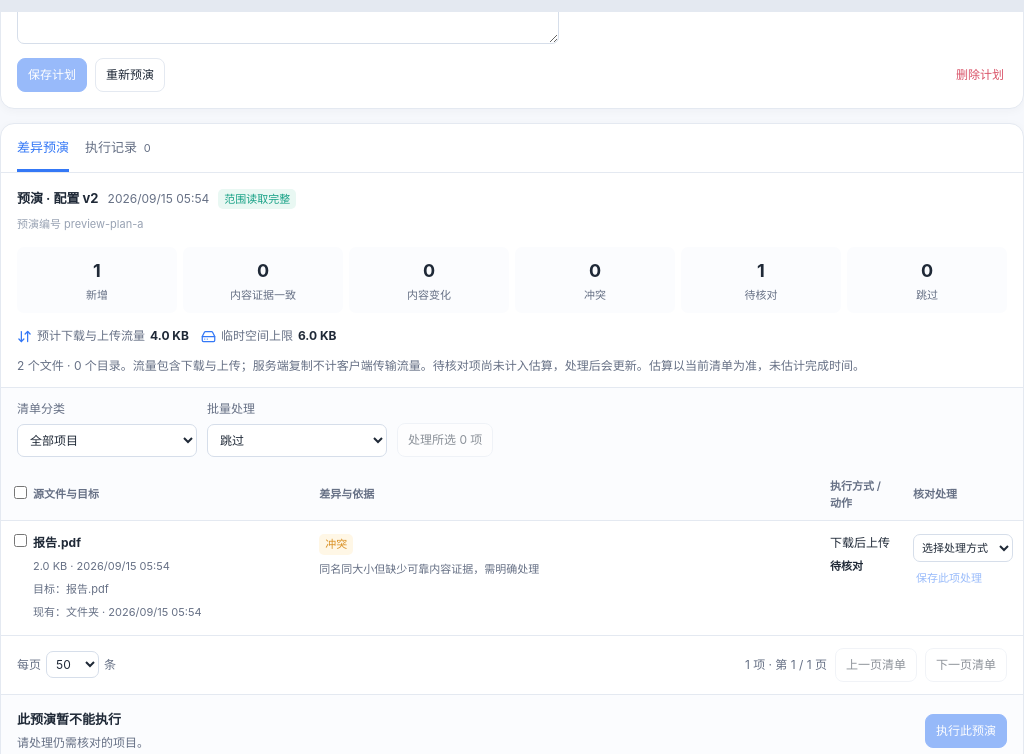
Test: keeps a rejected decision selected and blocks overwrite for a file-directory conflict
The image size is (1024, 754).
(page scrolled)
Click the checkbox named "选择本页待核对项".
click(20, 492)  # box 14,486 -> 27,499
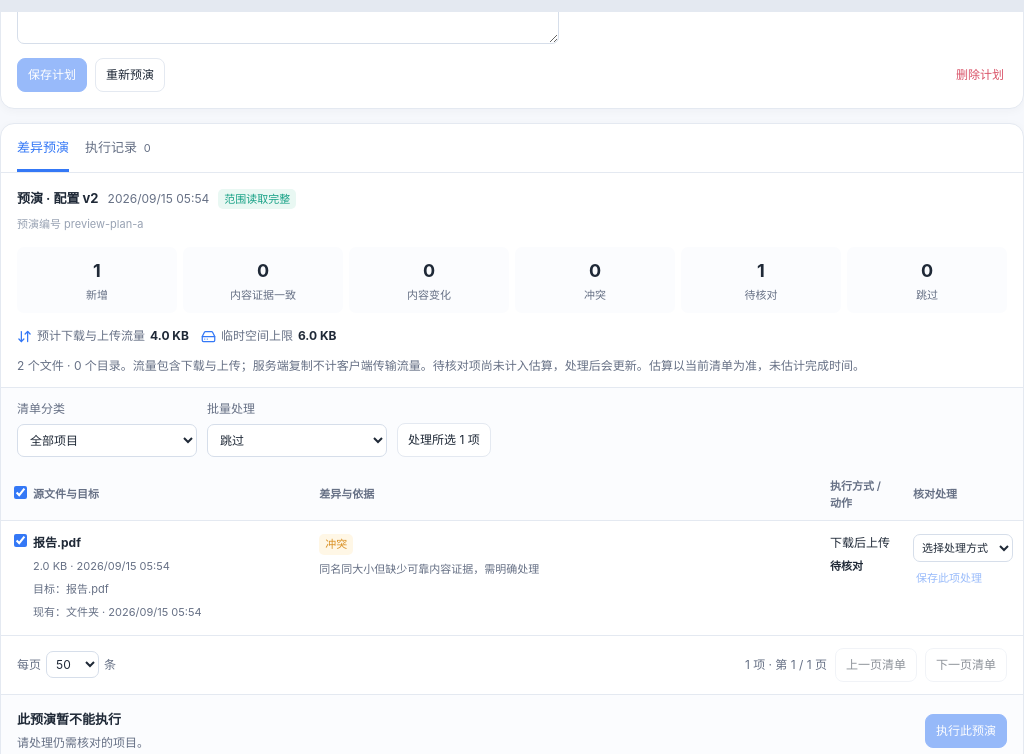
Select "覆盖" in the dropdown named "批量处理方式" at (297, 441), box 207,424 -> 387,457
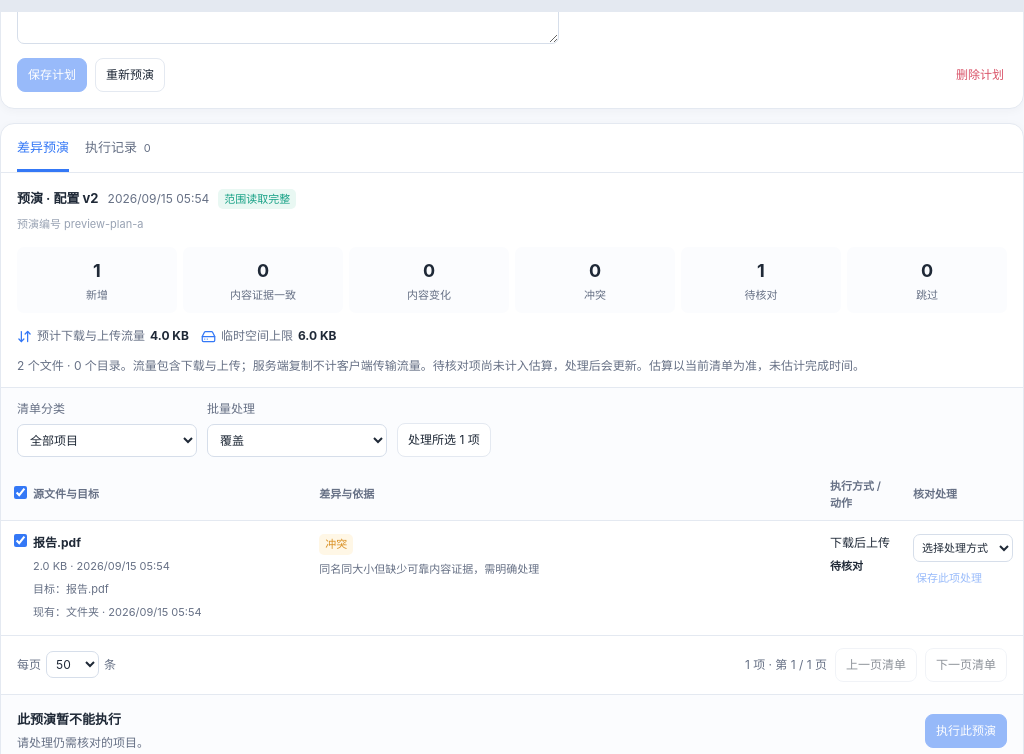
Click the button "处理所选 1 项".
click(444, 440)  # box 397,423 -> 491,457
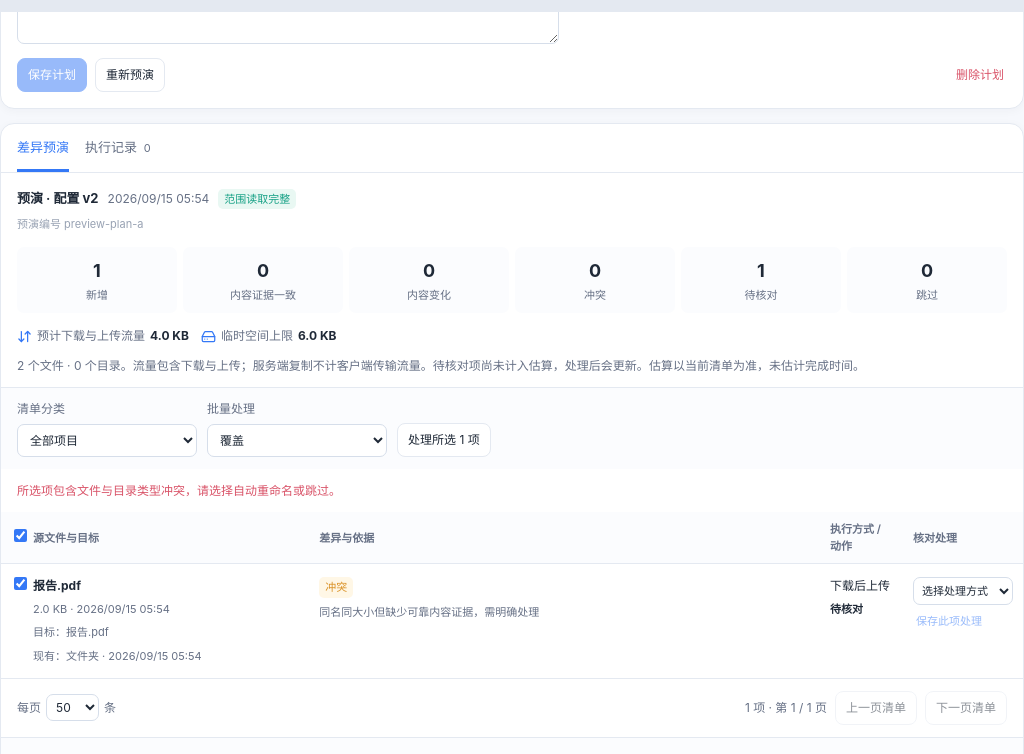
Expected: the text "文件与目录类型冲突" is shown, 17,483 -> 341,498
Select "自动重命名" in the dropdown named "处理报告.pdf" at (963, 591), box 913,577 -> 1013,605
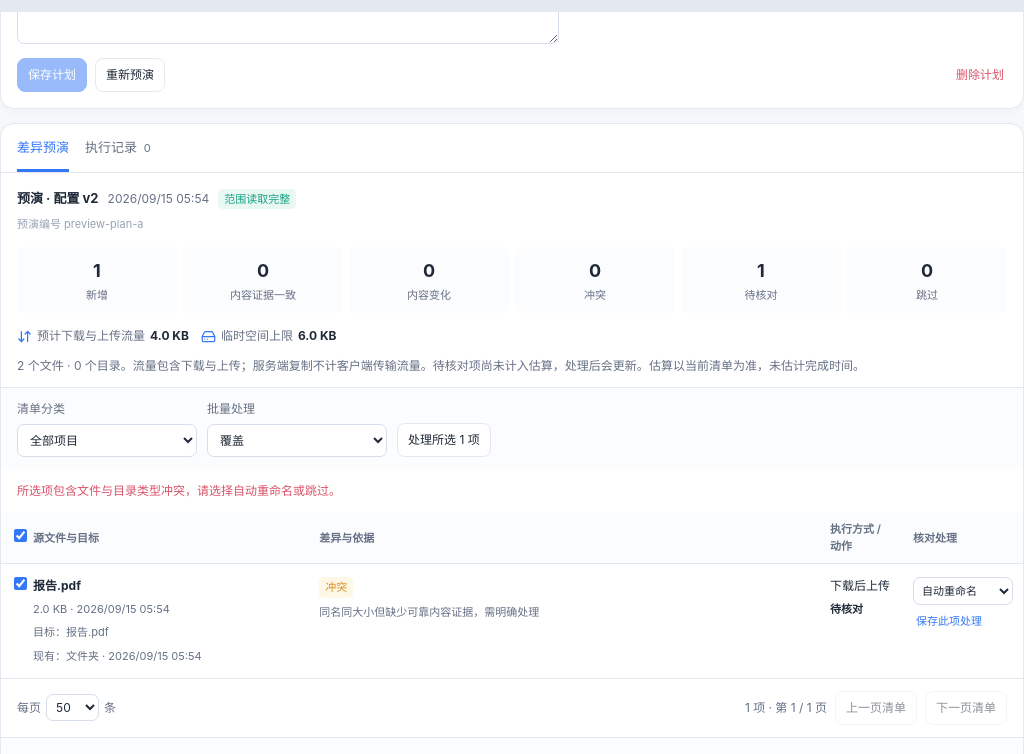
Click the button "保存此项处理".
click(949, 622)  # box 913,609 -> 985,634
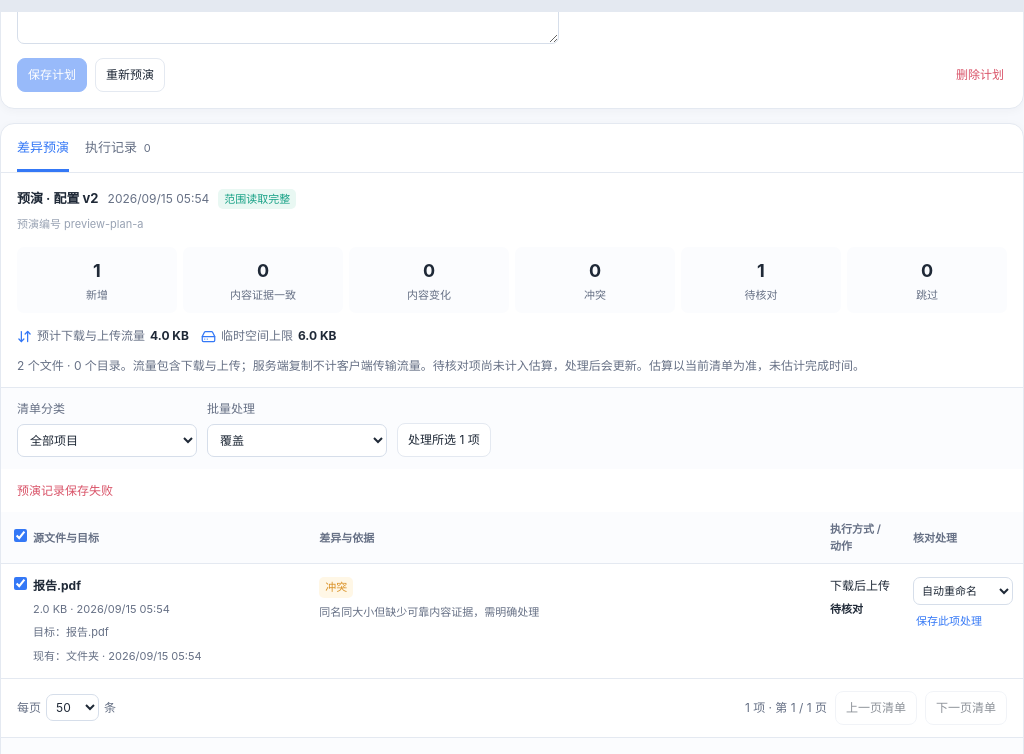
Expected: the text "预演记录保存失败" is shown, 17,483 -> 113,498
